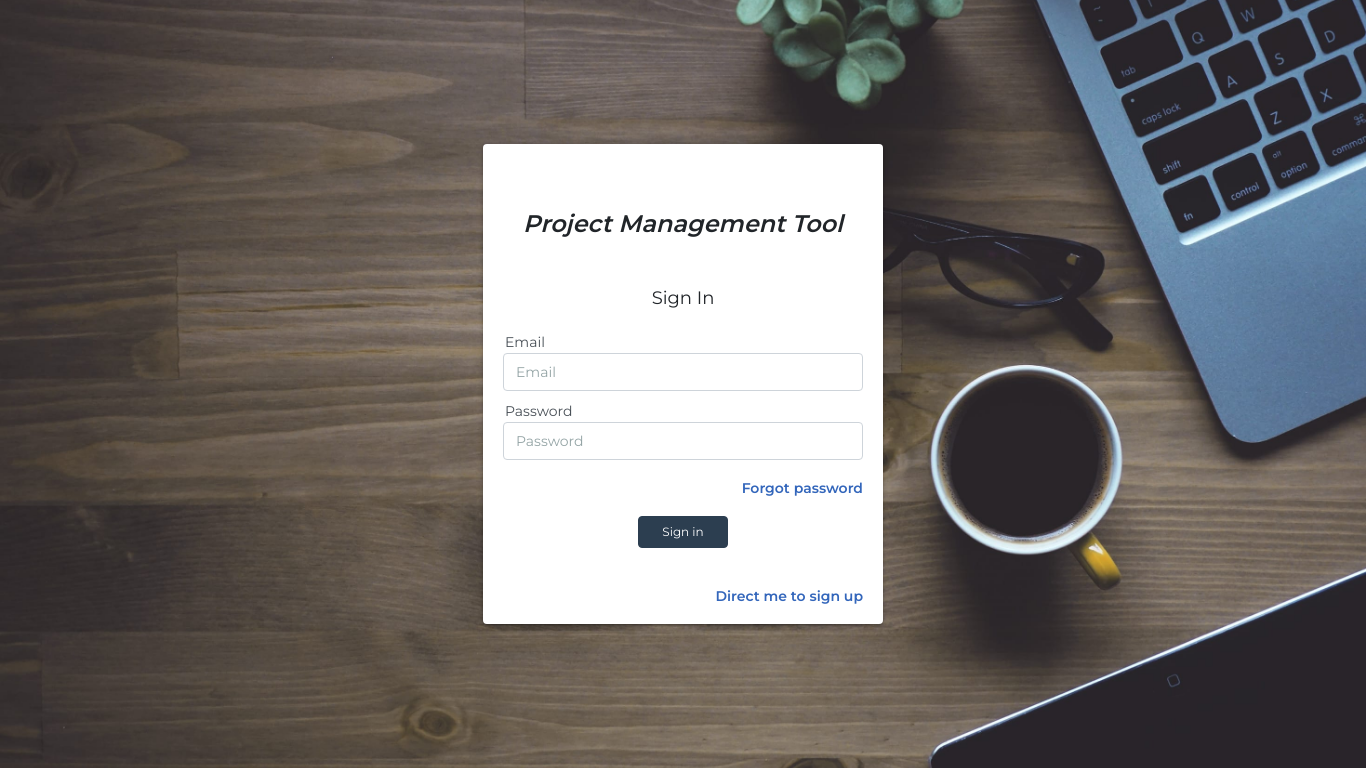
Test case: Login › Password too short
Type "test@example.com" into the field named "email" at (683, 372), box [503,353,863,391]
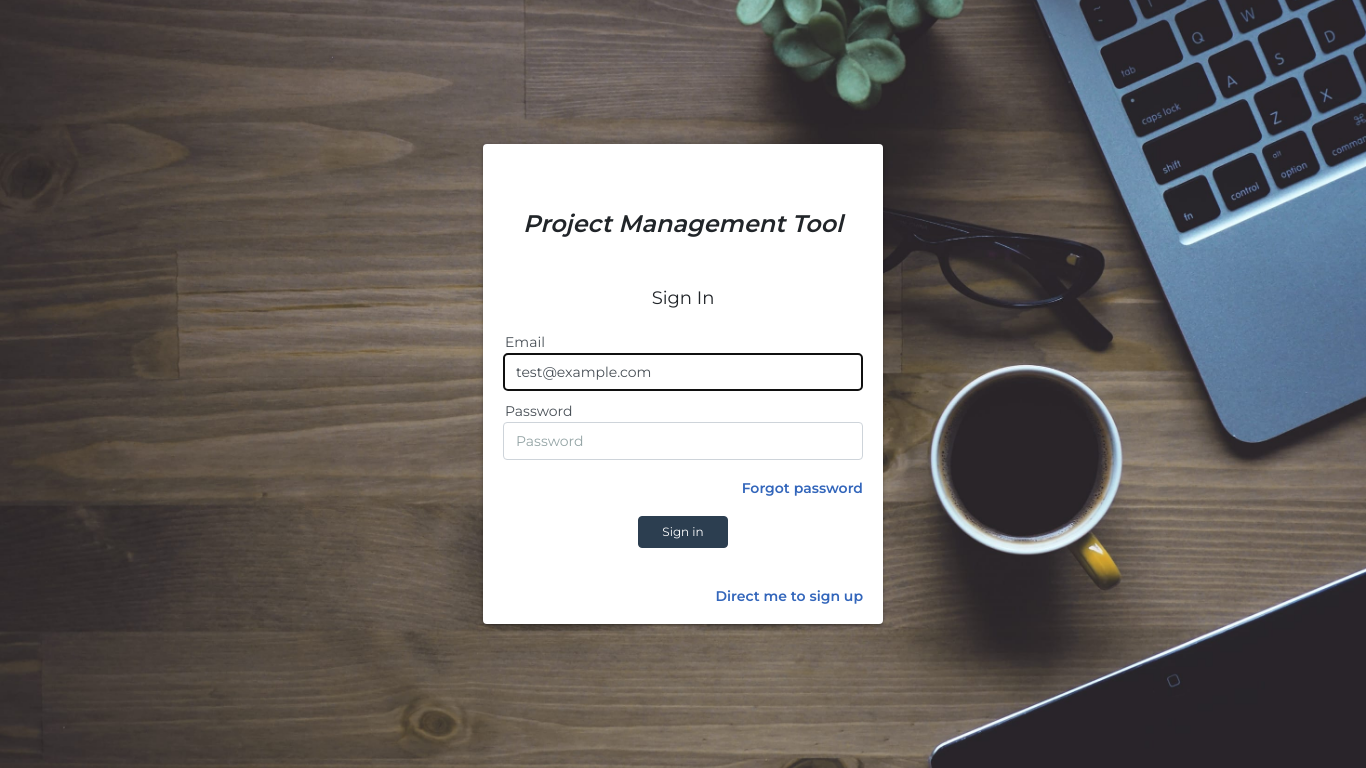
Type "pass" into the password field named "password" at (683, 441), box [503,422,863,460]
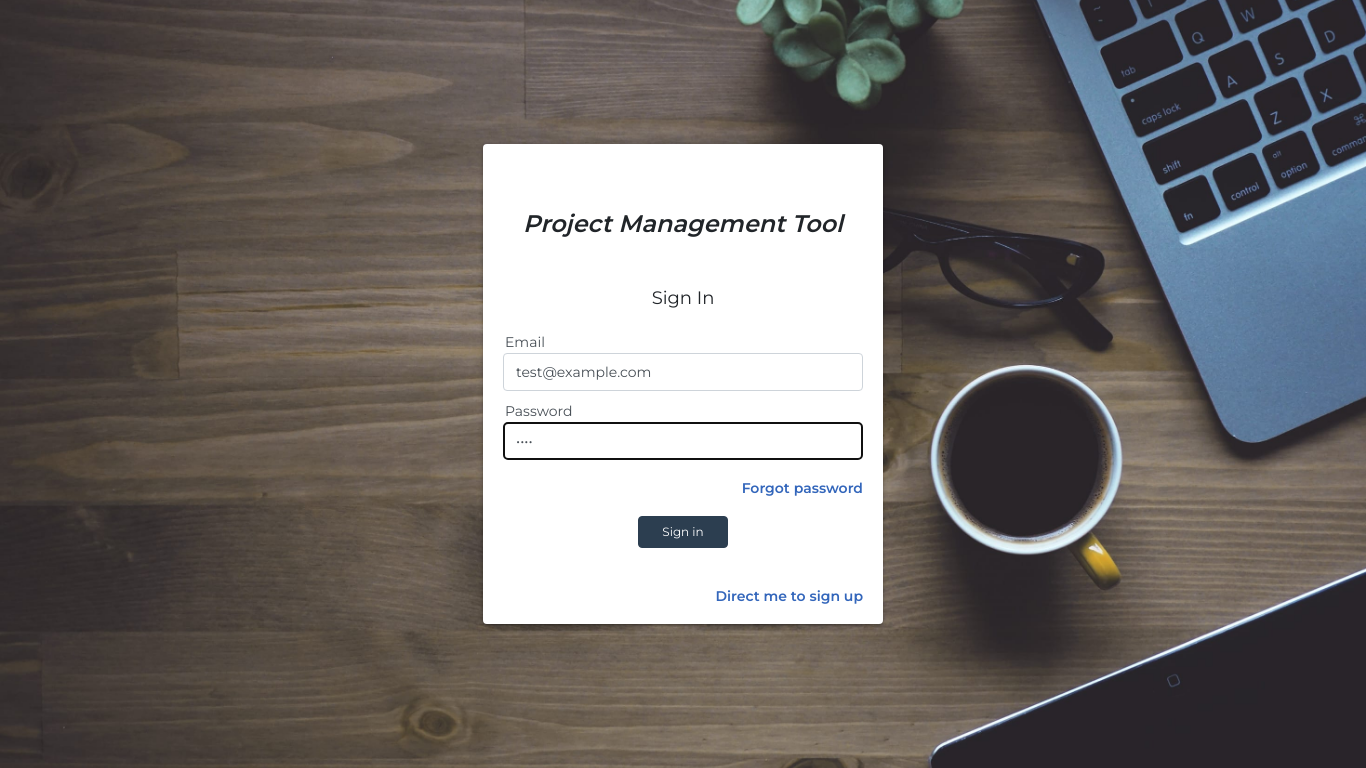
Click the submit button at (683, 532), box [638,516,728,548]
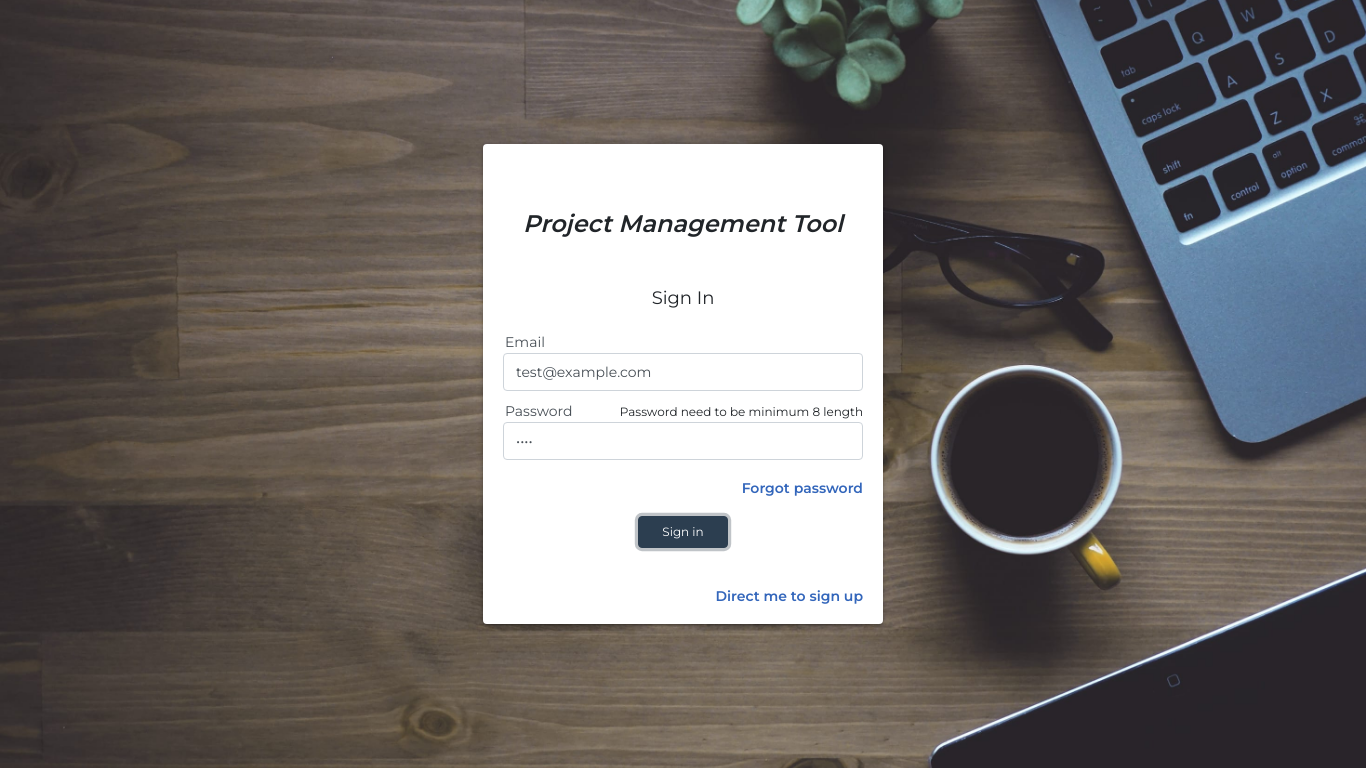
Expected: the text "Password need to be minimum 8 length" is shown, [620,403,863,421]
